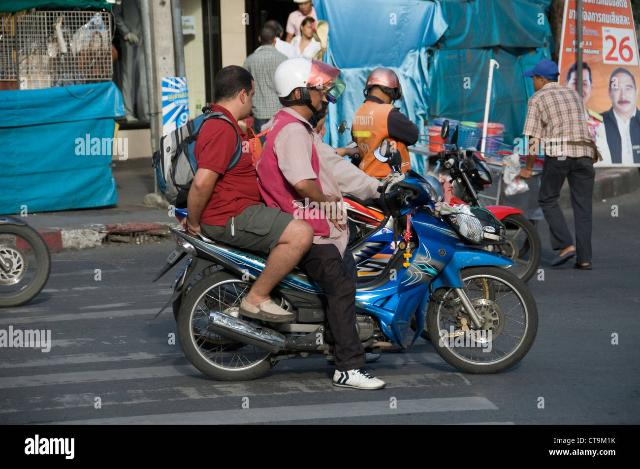helm: (276, 59, 341, 119), (367, 69, 404, 104)
motor: (156, 139, 541, 384), (428, 122, 542, 293)
non-helm: (214, 68, 256, 122)
